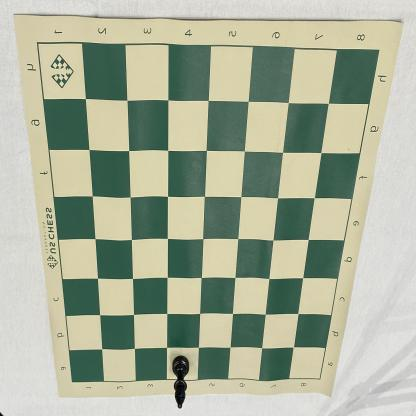black-bishop: (172, 355, 190, 409)
